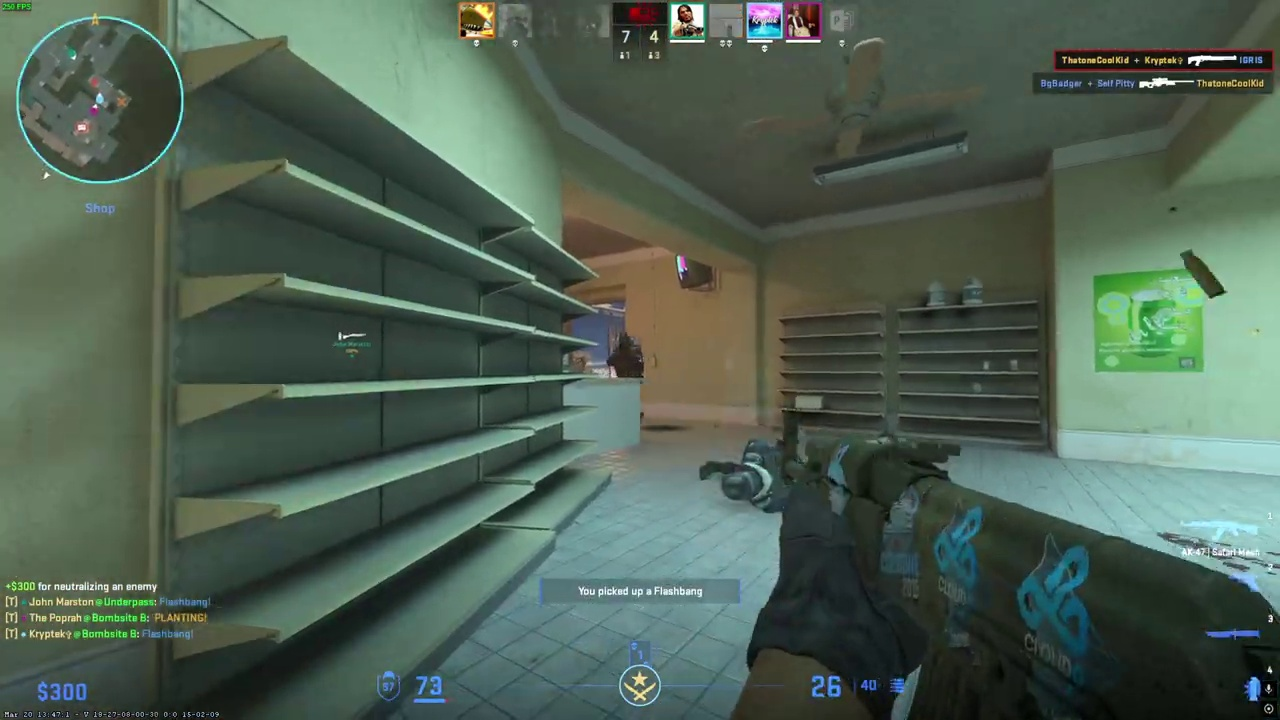CT: (608, 332, 644, 378)
